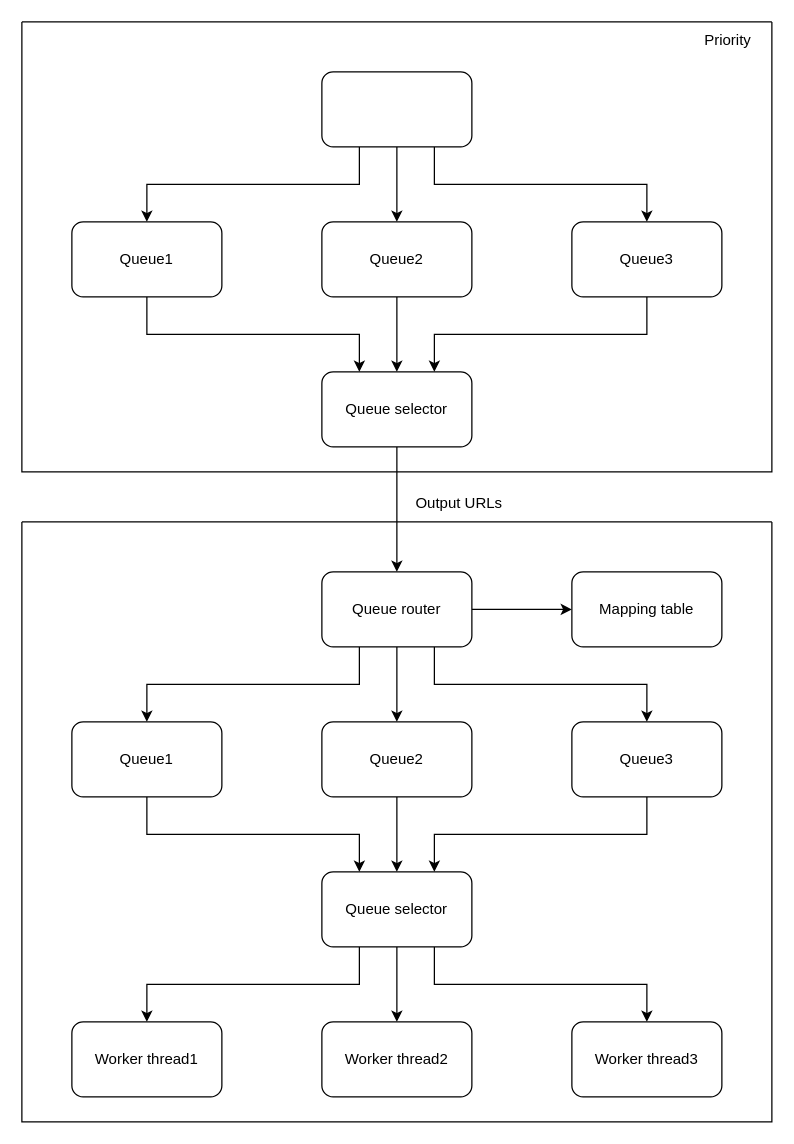
The diagram is 794 pixels wide and 1144 high, and some of its shapes have lost their labels. The box of each missing label's shape, as (x1, y1, x2, y2) in pixels:
Politeness: (21, 521, 772, 1122)
Prioritizer: (321, 71, 472, 147)
